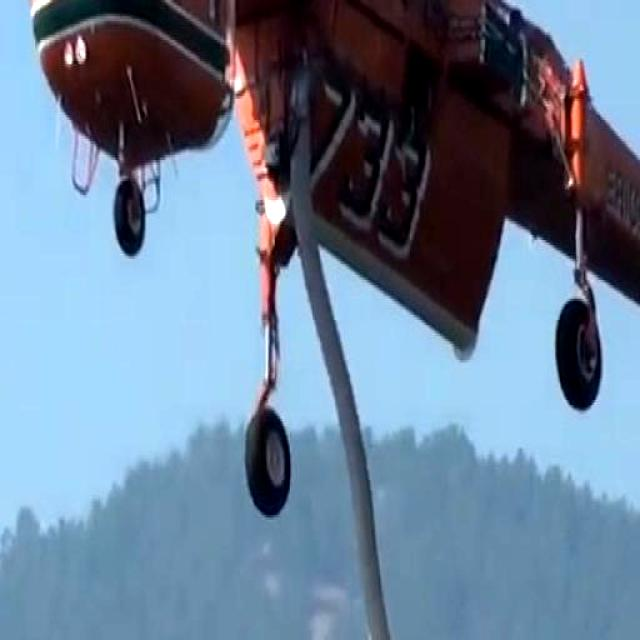drone: (0, 0, 640, 446)
